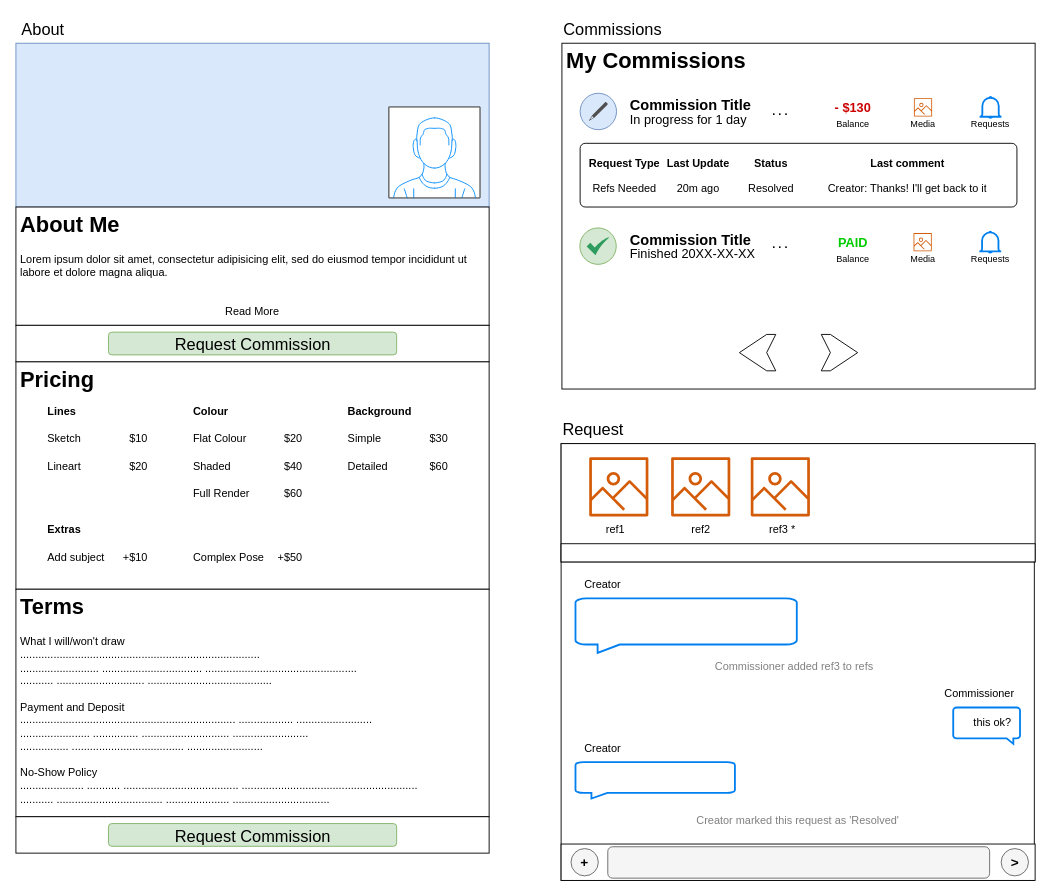
Some shapes in this 1051 by 896 pixel diagram are drawn without their labels. The box of each missing label's shape, as (x1, y1, x2, y2) in pixels:
Hello! I was wondering if you had any refs I can use for this piece?: (574, 597, 797, 653)
Refs: (560, 543, 1035, 562)
Yeah! This is great! Thanks :): (574, 761, 735, 799)
